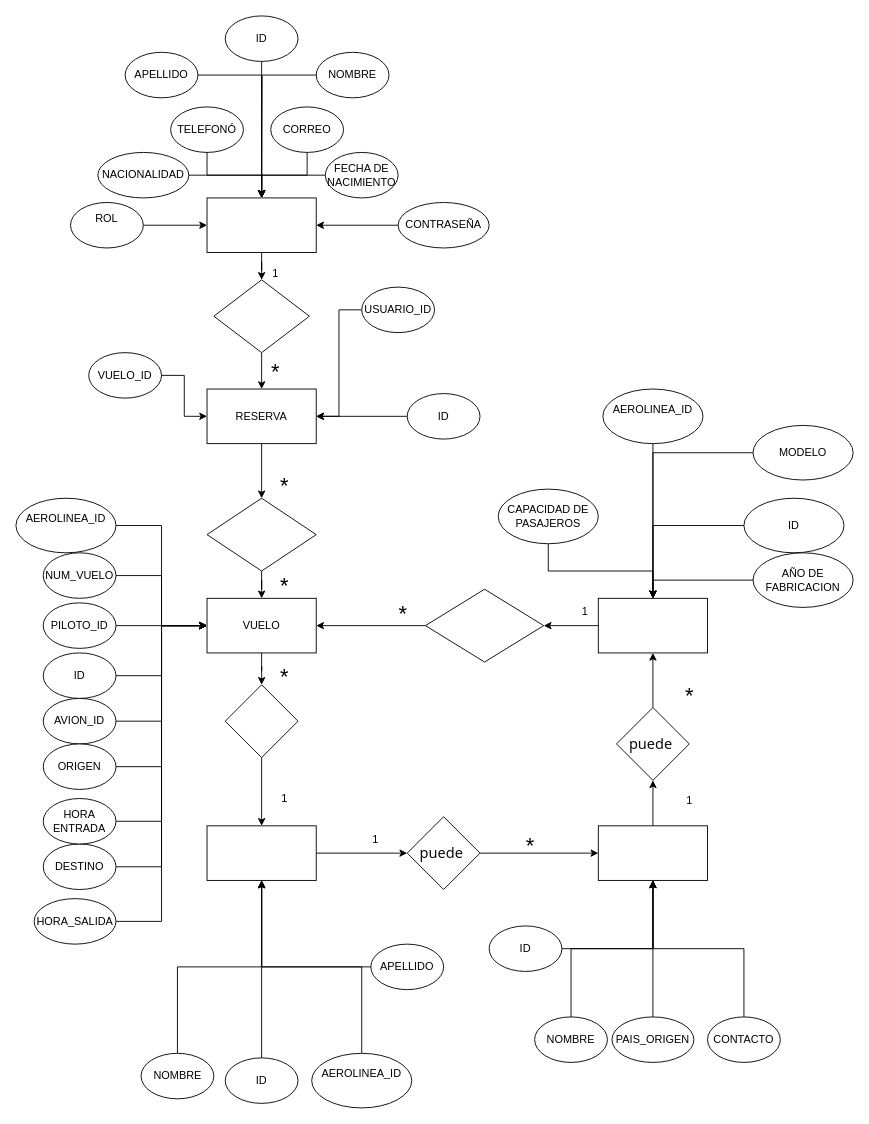
Image size: 869x1124. Some labels were removed from this diagram. Each missing label, with the centre of its shape:
AEROLINEA: (x=652, y=852)
AVION: (x=652, y=625)
están asociados: (x=261, y=534)
PILOTO: (x=261, y=852)
puede comprar: (x=261, y=316)
pueden usar: (x=484, y=625)
realizado: (x=261, y=721)
USUARIO: (x=261, y=225)
